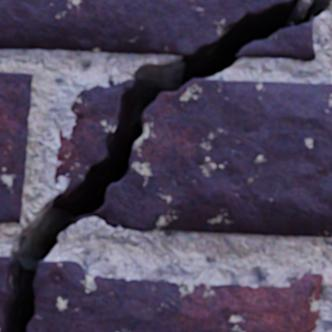brick: (0, 72, 32, 222)
broken_brick: (86, 79, 331, 236), (27, 260, 321, 331), (0, 0, 292, 57), (55, 79, 134, 196), (235, 17, 314, 61), (0, 256, 14, 331)
crack: (2, 0, 331, 331)
